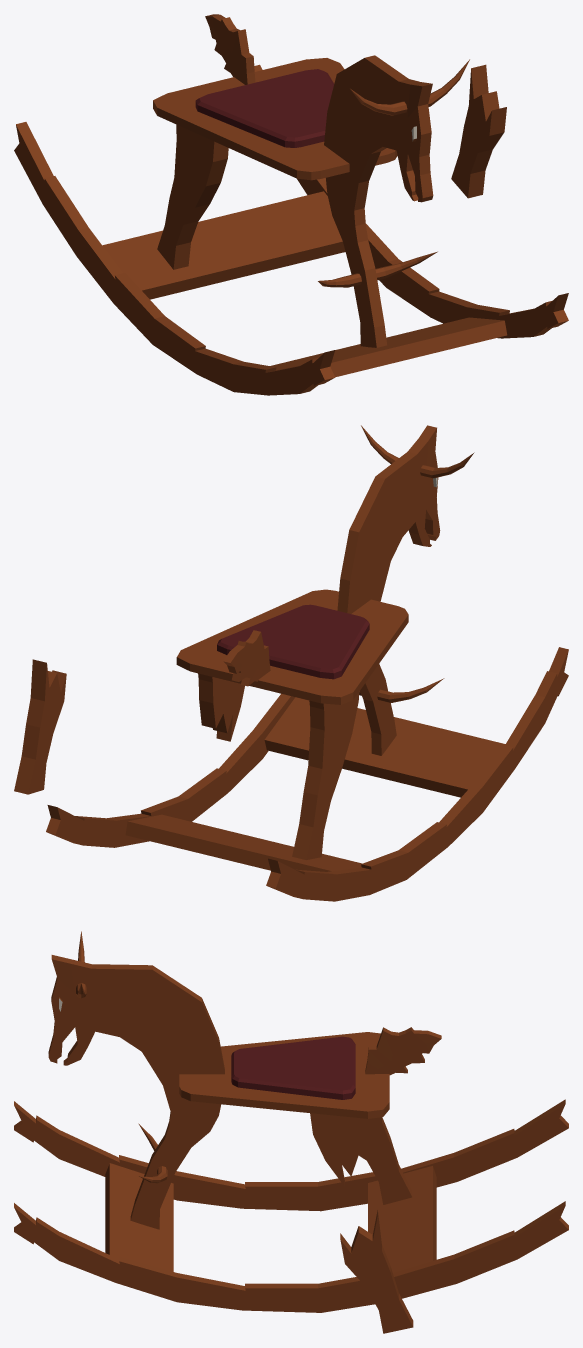
Rendered from CavalloDondoloSat.fbx.
3 views of the same model, one above another, from view 1: azimuth 30°, elevation 25°; view 2: azimuth 150°, elevation 25°; view 3: azimuth 270°, elevation 25° (orthographic). The views are drawn at different scales.
Visible parts, largest first — view 1: TestaSat.003, GambaStaccata; view 2: TestaSat.003, GambaStaccata; view 3: TestaSat.003, GambaStaccata.
Part boxes in pixels (<box>): TestaSat.003: <box>14,14,568,395</box>; GambaStaccata: <box>451,64,506,198</box>; TestaSat.003: <box>46,425,568,901</box>; GambaStaccata: <box>14,659,66,794</box>; TestaSat.003: <box>14,931,568,1312</box>; GambaStaccata: <box>340,1210,413,1333</box>.
Bounding box in the file's own units: 139 × 124 × 205.
